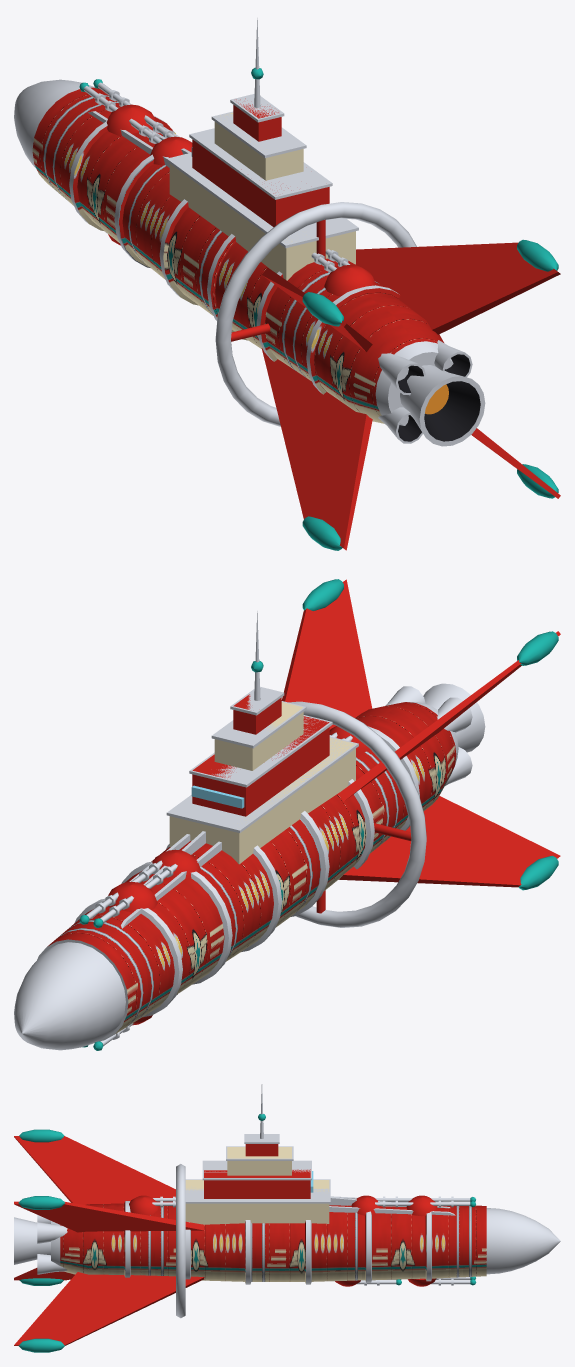
Rendered from victory.obj.
3 renders of one model, top to bottom at view 1: azimuth 30°, elevation 25°; view 2: azimuth 150°, elevation 25°; view 3: azimuth 270°, elevation 25°, orthographic. The views are drawn at different scales.
Parts seen in each view (by area): view 1: hull, fin225, fin45, collar, bell, bridge0, bridge1, fintip, turret, bell_s, bridge_trim0, bridge_trim1 (+9 smaller); view 2: hull, fin225, fin45, collar, bridge0, bridge1, bridge_trim0, fintip, bridge2, turret, fin315, bridge_trim1 (+9 smaller); view 3: hull, fin135, fin315, bridge0, fin45, bridge1, fintip, turret, collar, bridge2, bell, bridge_trim0 (+6 smaller).
Part boxes in pixels (<box>): hull: <box>14,79,453,425</box>; fin225: <box>261,348,372,550</box>; fin45: <box>355,242,560,334</box>; collar: <box>215,202,416,426</box>; bell: <box>400,365,485,446</box>; bridge0: <box>169,164,355,280</box>; bridge1: <box>192,139,329,227</box>; fintip: <box>302,239,558,550</box>; turret: <box>106,104,375,296</box>; bell_s: <box>378,340,472,443</box>; bridge_trim0: <box>166,152,358,248</box>; bridge_trim1: <box>189,128,332,199</box>; hull: <box>14,702,458,1050</box>; fin225: <box>339,796,560,887</box>; fin45: <box>281,579,372,729</box>; collar: <box>288,701,426,927</box>; bridge0: <box>169,737,355,864</box>; bridge1: <box>192,716,329,816</box>; bridge_trim0: <box>166,736,358,832</box>; fintip: <box>302,579,558,890</box>; bridge2: <box>214,702,303,770</box>; turret: <box>108,726,370,1025</box>; fin315: <box>337,631,560,801</box>; bridge_trim1: <box>189,715,332,787</box>; hull: <box>51,1201,560,1284</box>; fin135: <box>14,1272,204,1345</box>; fin315: <box>14,1136,175,1204</box>; bridge0: <box>185,1180,329,1224</box>; fin45: <box>14,1201,204,1232</box>; bridge1: <box>204,1169,310,1198</box>; fintip: <box>18,1129,65,1352</box>; turret: <box>129,1195,437,1286</box>; collar: <box>176,1164,185,1318</box>; bridge2: <box>227,1147,291,1175</box>; bell: <box>14,1217,50,1264</box>; bridge_trim0: <box>185,1179,330,1203</box>.
Size of the model in its own units: 36.84 by 56.99 by 118.
8 materials, 1 textured.
